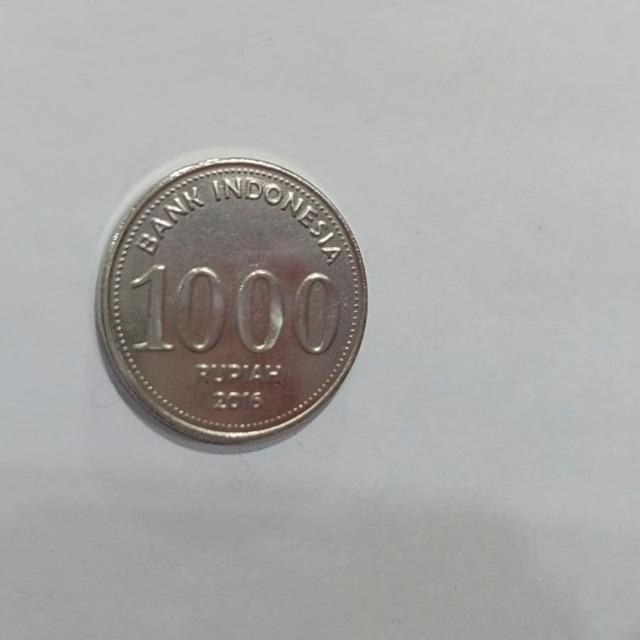Rp100: (93, 154, 369, 448)
